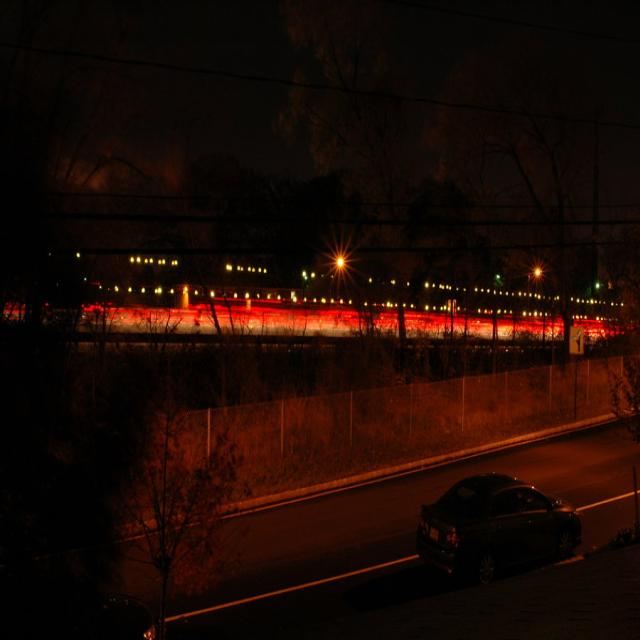Car: (358, 474, 608, 628)
